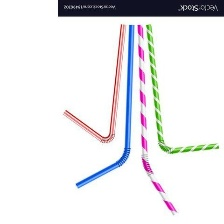drinking_straw: (72, 24, 138, 193), (144, 21, 222, 157), (132, 24, 184, 220), (60, 24, 128, 147)
